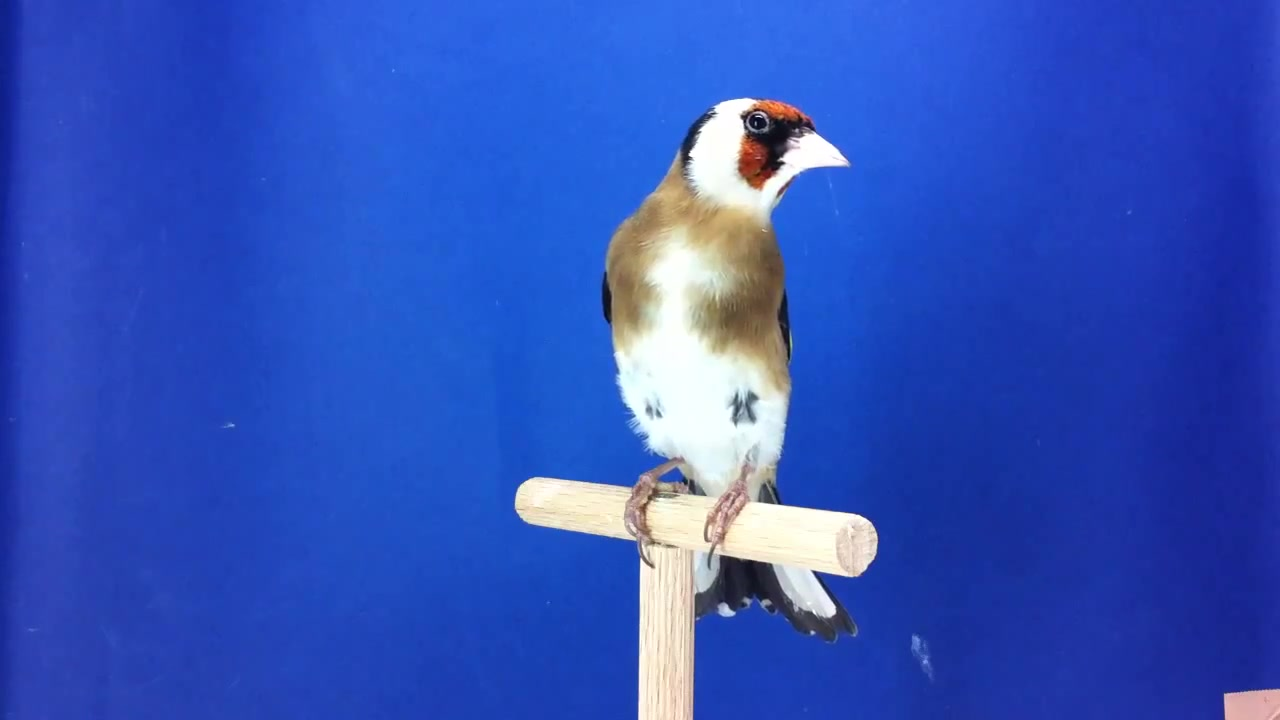bird: (600, 97, 861, 645)
